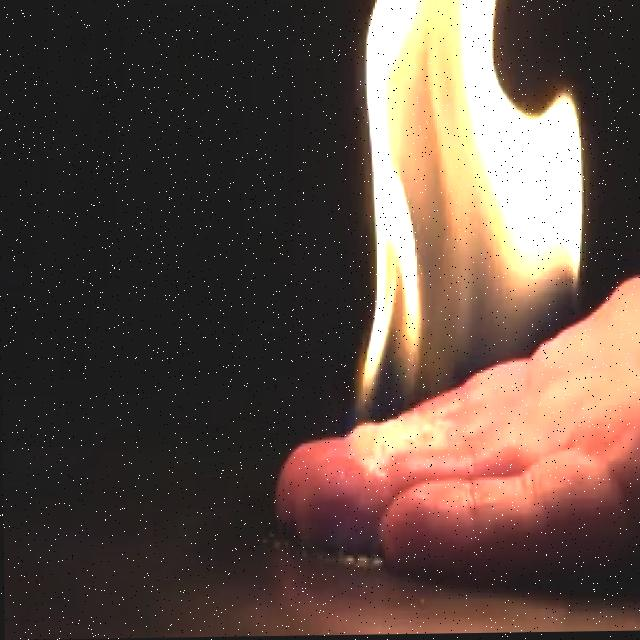Fire: (342, 0, 592, 462)
